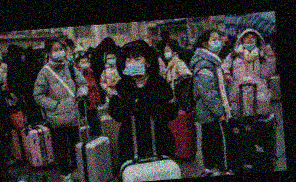mask_weared_incorrect: (243, 33, 256, 49), (64, 47, 74, 62)
with_mask: (124, 55, 148, 76), (50, 44, 66, 61), (207, 35, 222, 52), (163, 46, 173, 61), (105, 55, 116, 67), (80, 58, 89, 69)
